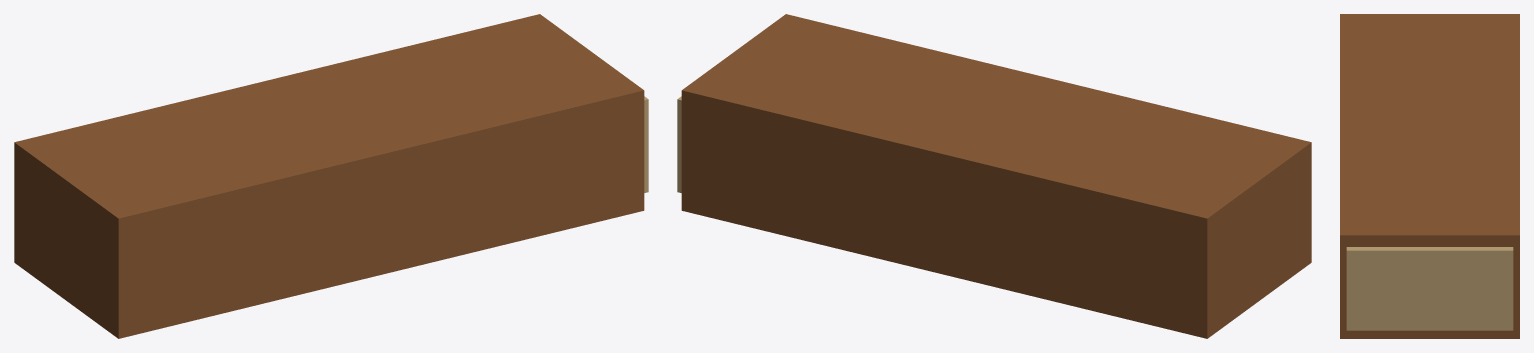
Rendered from wood_offcut.glb.
3 views of the same model, side by side, from view 1: azimuth 30°, elevation 25°; view 2: azimuth 150°, elevation 25°; view 3: azimuth 270°, elevation 25° (orthographic). The views are drawn at different scales.
Parts seen in each view (by area): view 1: wood_offcut; view 2: wood_offcut; view 3: wood_offcut.
Boxes of the visible parts, bbox=[...] form: wood_offcut: bbox=[14, 14, 648, 338]; wood_offcut: bbox=[677, 14, 1311, 338]; wood_offcut: bbox=[1340, 14, 1519, 338].
Bounding box in the file's own units: 0.1625 × 0.035 × 0.055.
